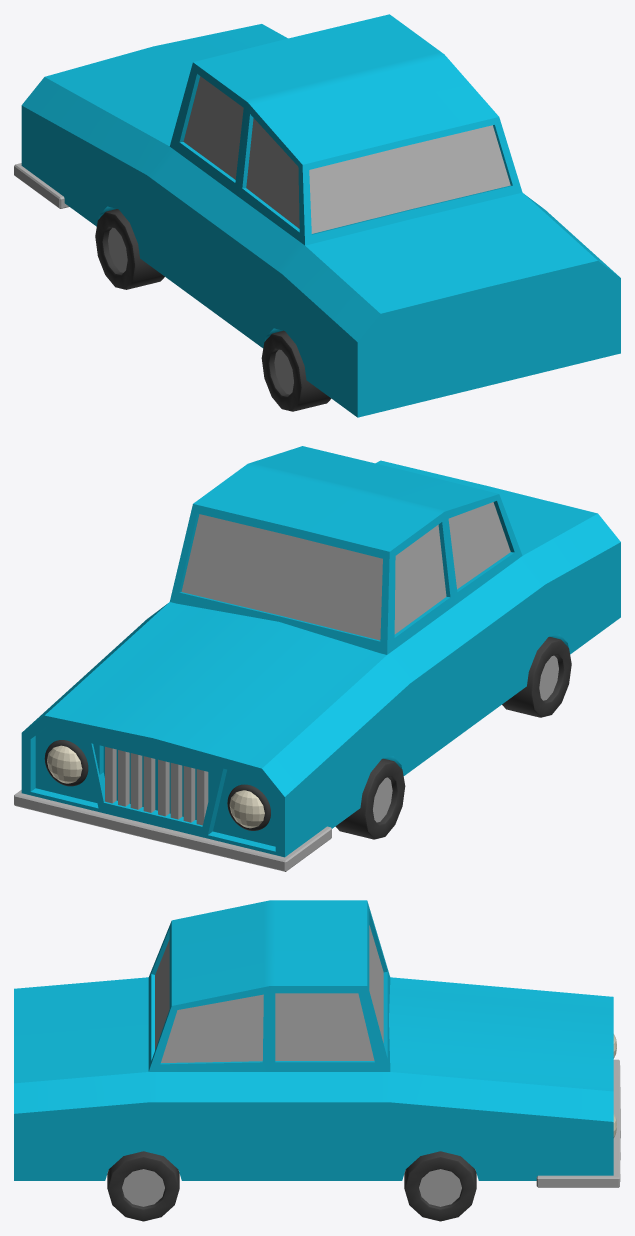
The model's file is Car.fbx.
The picture shows the model from 3 angles, top to bottom: view 1: azimuth 30°, elevation 25°; view 2: azimuth 150°, elevation 25°; view 3: azimuth 270°, elevation 25°; orthographic projection. The views are drawn at different scales.
Visible parts, largest first — view 1: Car; view 2: Car; view 3: Car.
Boxes of the visible parts, x1,y1,x2,y2 form: Car: [14, 14, 620, 417]; Car: [14, 446, 620, 871]; Car: [14, 900, 620, 1221].
Bounding box in the file's own units: 207 × 179 × 448.
